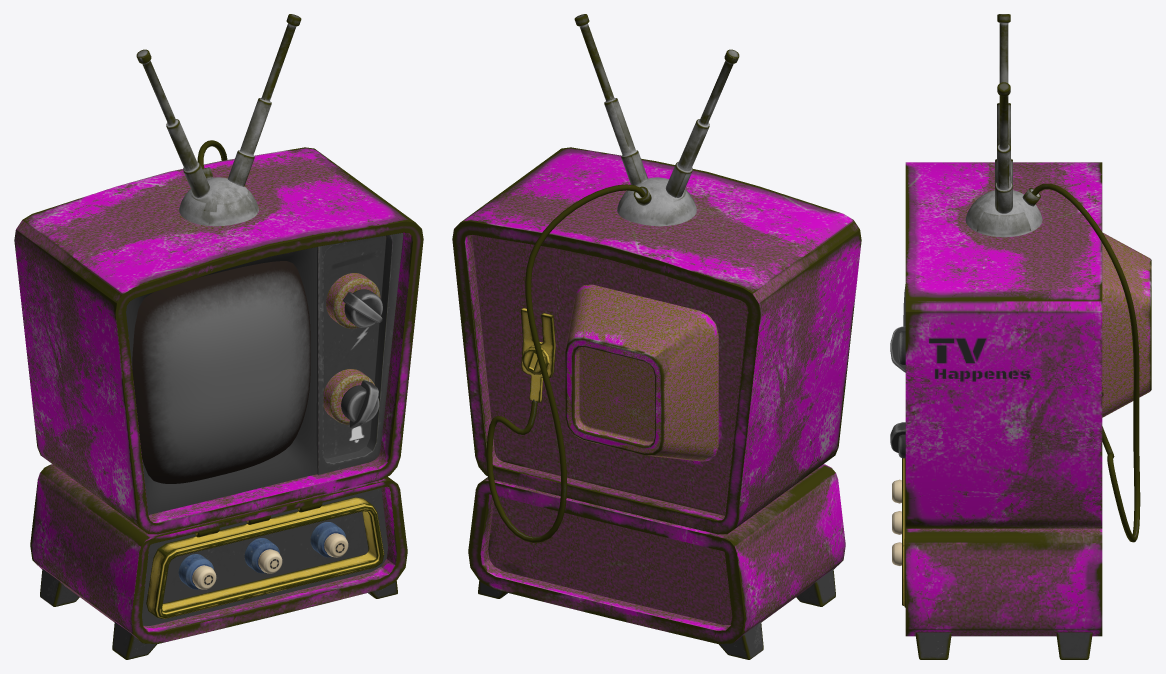
Rendered from terebi.gltf.
3 renders of one model, left to right at view 1: azimuth 30°, elevation 25°; view 2: azimuth 150°, elevation 25°; view 3: azimuth 270°, elevation 25°, orthographic. The views are drawn at different scales.
Parts seen in each view (by area): view 1: Object_2, Object_3, Object_4; view 2: Object_2, Object_4; view 3: Object_2, Object_4, Object_3.
Part boxes in pixels (bbox=[...]): Object_2: bbox=[14, 147, 423, 643]; Object_3: bbox=[146, 273, 384, 618]; Object_4: bbox=[40, 14, 397, 659]; Object_2: bbox=[452, 147, 861, 643]; Object_4: bbox=[478, 14, 835, 659]; Object_2: bbox=[903, 162, 1102, 636]; Object_4: bbox=[915, 14, 1151, 659]; Object_3: bbox=[890, 326, 905, 607].
Size of the model in its own units: 4.67 by 8.15 by 3.53.
3 materials, 3 textured.
